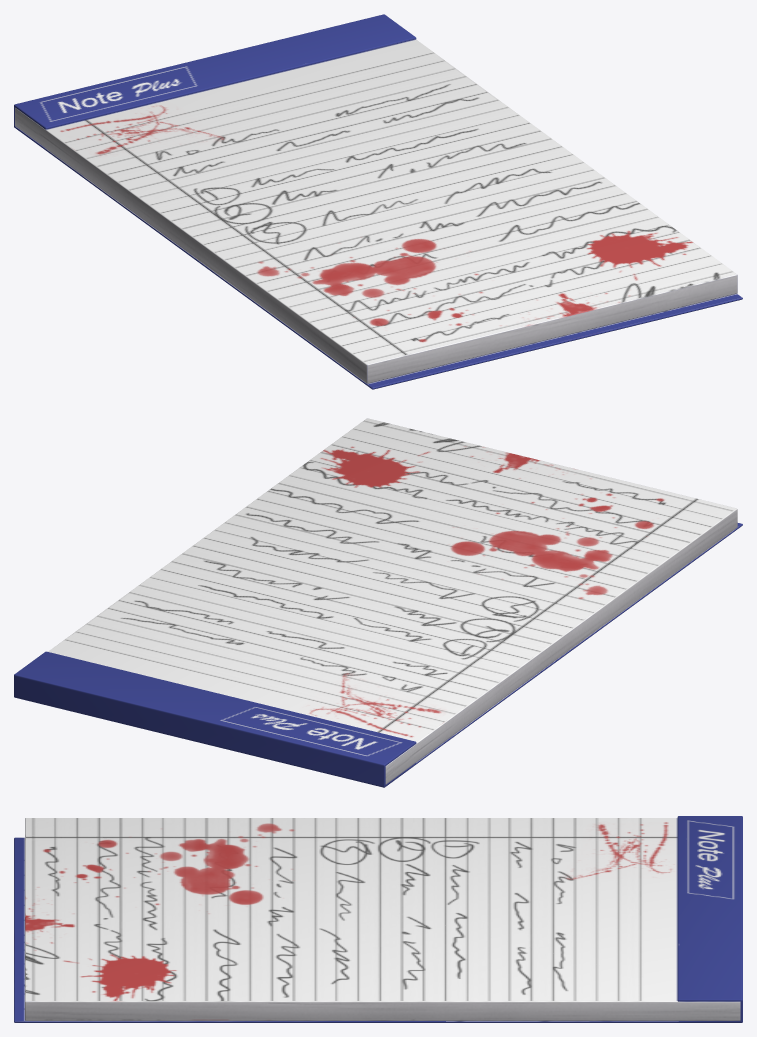
The model's file is notepad_bloody.glb.
3 renders of one model, top to bottom at view 1: azimuth 30°, elevation 25°; view 2: azimuth 150°, elevation 25°; view 3: azimuth 270°, elevation 25°, orthographic.
Visible parts, largest first — view 1: Notepad_BAKED; view 2: Notepad_BAKED; view 3: Notepad_BAKED.
Part boxes in pixels (box(x1,y1,x2,y2)): Notepad_BAKED: box(14, 14, 742, 389); Notepad_BAKED: box(14, 418, 742, 787); Notepad_BAKED: box(14, 816, 742, 1022).
Bounding box in the file's own units: 40 × 2.4 × 67.
1 material, 1 textured.
